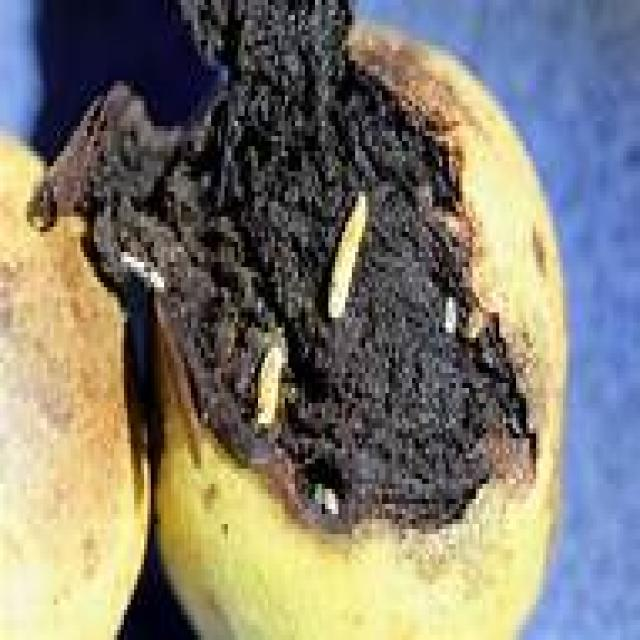Olive Fruit Fly: (140, 30, 560, 635)
